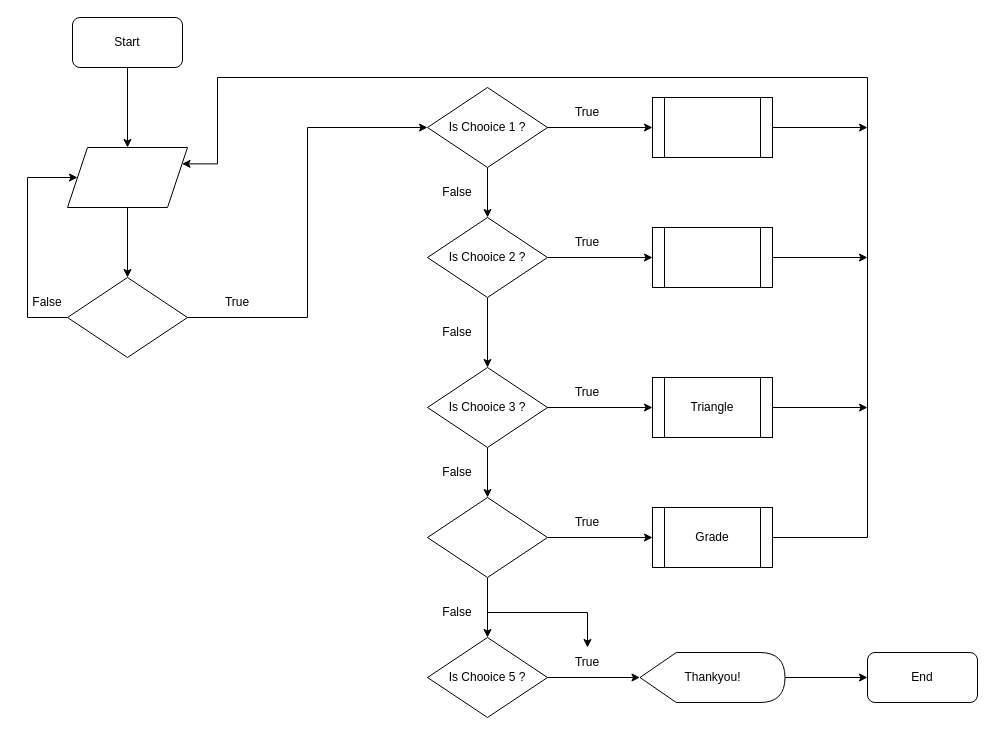
This 995x735 diagram has some shape labels left out. The centre of each missing label's shape, as x and y in pixels:
"Initial name" goes at (712,257).
"Input menu" goes at (127,177).
"Is Chooice 4 ?" goes at (487,537).
"Looping Number" goes at (712,127).
"menu > 0 && menu <= 5" goes at (127,317).
